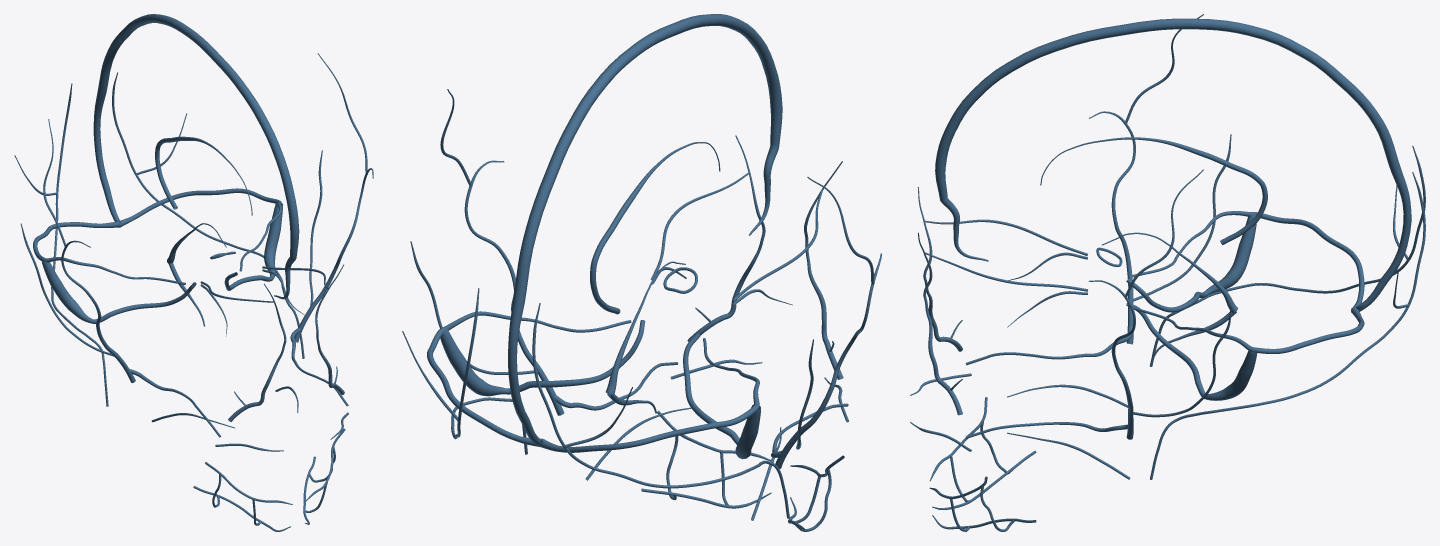
The model's file is venous-head-balanced.glb.
3 views of the same model, side by side, from view 1: azimuth 30°, elevation 25°; view 2: azimuth 150°, elevation 25°; view 3: azimuth 270°, elevation 25° (orthographic). The views are drawn at different scales.
Parts seen in each view (by area): view 1: za.superior-sagittal-sinus, za.occipital-vein-l, za.occipital-vein-r, za.superficial-temporal-veins-l, za.superficial-temporal-veins-r, za.transverse-sinus-l, za.sigmoid-sinus-r, za.inferior-sagittal-sinus, za.sigmoid-sinus-l, za.angular-vein-r, za.transverse-sinus-r, za.inferior-petrosal-sinus-r (+6 smaller); view 2: za.superior-sagittal-sinus, za.occipital-vein-r, za.transverse-sinus-r, za.inferior-sagittal-sinus, za.superficial-temporal-veins-r, za.superficial-temporal-veins-l, za.sigmoid-sinus-l, za.occipital-vein-l, za.transverse-sinus-l, za.angular-vein-l, za.inferior-petrosal-sinus-l, za.angular-vein-r (+7 smaller); view 3: za.superior-sagittal-sinus, za.occipital-vein-l, za.inferior-sagittal-sinus, za.occipital-vein-r, za.superficial-temporal-veins-r, za.superficial-temporal-veins-l, za.sigmoid-sinus-r, za.transverse-sinus-r, za.sigmoid-sinus-l, za.angular-vein-l, za.transverse-sinus-l, za.angular-vein-r (+5 smaller).
Boxes of the visible parts, <box> form: za.superior-sagittal-sinus: <box>93,14,299,299</box>; za.occipital-vein-l: <box>112,72,304,358</box>; za.occipital-vein-r: <box>14,83,108,406</box>; za.superficial-temporal-veins-l: <box>309,53,373,310</box>; za.superficial-temporal-veins-r: <box>43,119,119,358</box>; za.transverse-sinus-l: <box>119,188,280,227</box>; za.sigmoid-sinus-r: <box>41,261,92,323</box>; za.inferior-sagittal-sinus: <box>155,136,252,215</box>; za.sigmoid-sinus-l: <box>264,202,282,277</box>; za.angular-vein-r: <box>228,283,286,421</box>; za.transverse-sinus-r: <box>33,221,119,261</box>; za.inferior-petrosal-sinus-r: <box>91,282,196,323</box>; za.superior-sagittal-sinus: <box>508,14,782,446</box>; za.occipital-vein-r: <box>532,303,789,518</box>; za.transverse-sinus-r: <box>541,404,759,452</box>; za.inferior-sagittal-sinus: <box>590,142,720,314</box>; za.superficial-temporal-veins-r: <box>795,177,881,435</box>; za.superficial-temporal-veins-l: <box>440,89,542,372</box>; za.sigmoid-sinus-l: <box>440,329,506,396</box>; za.occipital-vein-l: <box>402,288,527,454</box>; za.transverse-sinus-l: <box>427,328,542,447</box>; za.angular-vein-l: <box>687,135,765,341</box>; za.inferior-petrosal-sinus-l: <box>506,320,645,394</box>; za.angular-vein-r: <box>804,161,843,379</box>; za.superior-sagittal-sinus: <box>935,18,1411,311</box>; za.occipital-vein-l: <box>1150,172,1425,479</box>; za.inferior-sagittal-sinus: <box>1040,137,1267,244</box>; za.occipital-vein-r: <box>1150,145,1425,366</box>; za.superficial-temporal-veins-r: <box>1088,14,1203,300</box>; za.superficial-temporal-veins-l: <box>1088,169,1203,415</box>; za.sigmoid-sinus-r: <box>1205,215,1256,294</box>; za.transverse-sinus-r: <box>1253,212,1364,309</box>; za.sigmoid-sinus-l: <box>1205,350,1257,400</box>; za.angular-vein-l: <box>918,232,962,415</box>; za.transverse-sinus-l: <box>1252,307,1364,353</box>; za.angular-vein-r: <box>917,187,962,351</box>.
Bounding box in the file's own units: 0.1578 × 0.2053 × 0.1918.
